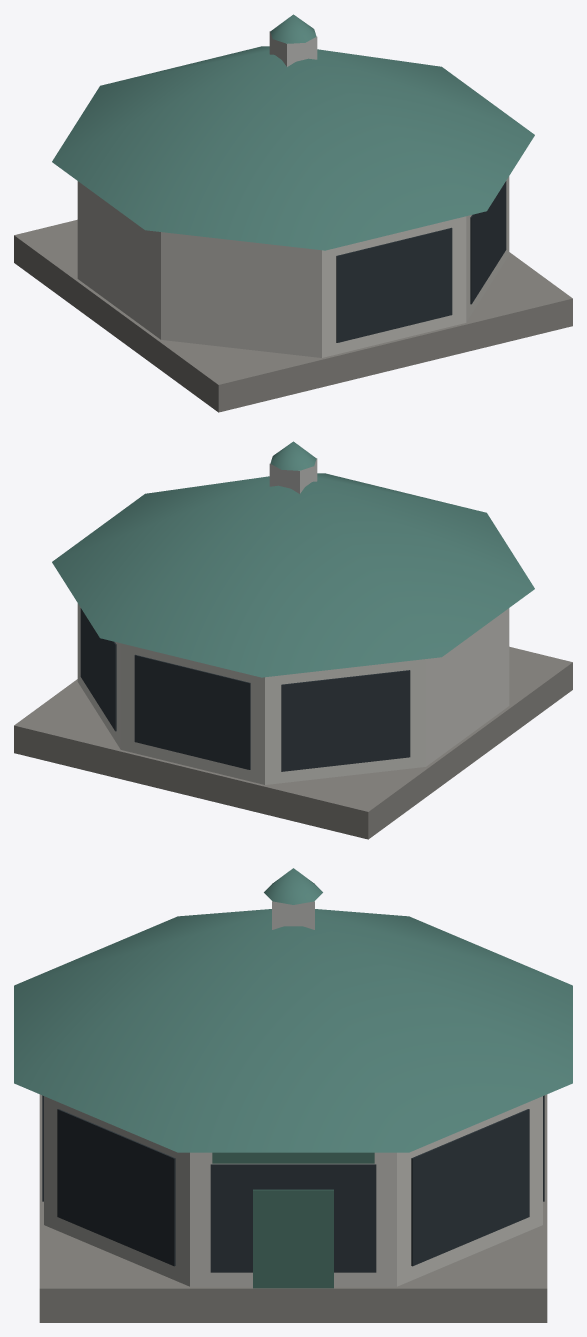
File: SM_Prop_cafe_building_14_LOD2.glb
3 renders of one model, top to bottom at view 1: azimuth 30°, elevation 25°; view 2: azimuth 150°, elevation 25°; view 3: azimuth 270°, elevation 25°, orthographic. The views are drawn at different scales.
Parts seen in each view (by area): view 1: SM_Prop_cafe_building_14_LOD2; view 2: SM_Prop_cafe_building_14_LOD2; view 3: SM_Prop_cafe_building_14_LOD2.
Part boxes in pixels (x1,y1,x2,y2): SM_Prop_cafe_building_14_LOD2: [14, 14, 572, 412]; SM_Prop_cafe_building_14_LOD2: [14, 441, 572, 839]; SM_Prop_cafe_building_14_LOD2: [14, 868, 572, 1322].
Bounding box in the file's own units: 10.35 × 7.1 × 10.35.
